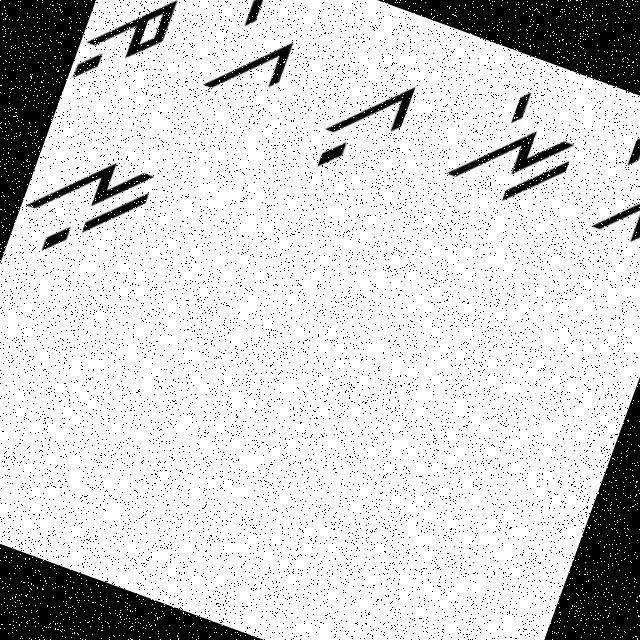ge: (191, 0, 315, 125)
gu: (302, 53, 425, 195)
nge: (428, 64, 595, 226)
ngu: (10, 127, 166, 289)
te: (584, 118, 639, 259)
tu: (68, 0, 186, 110)
